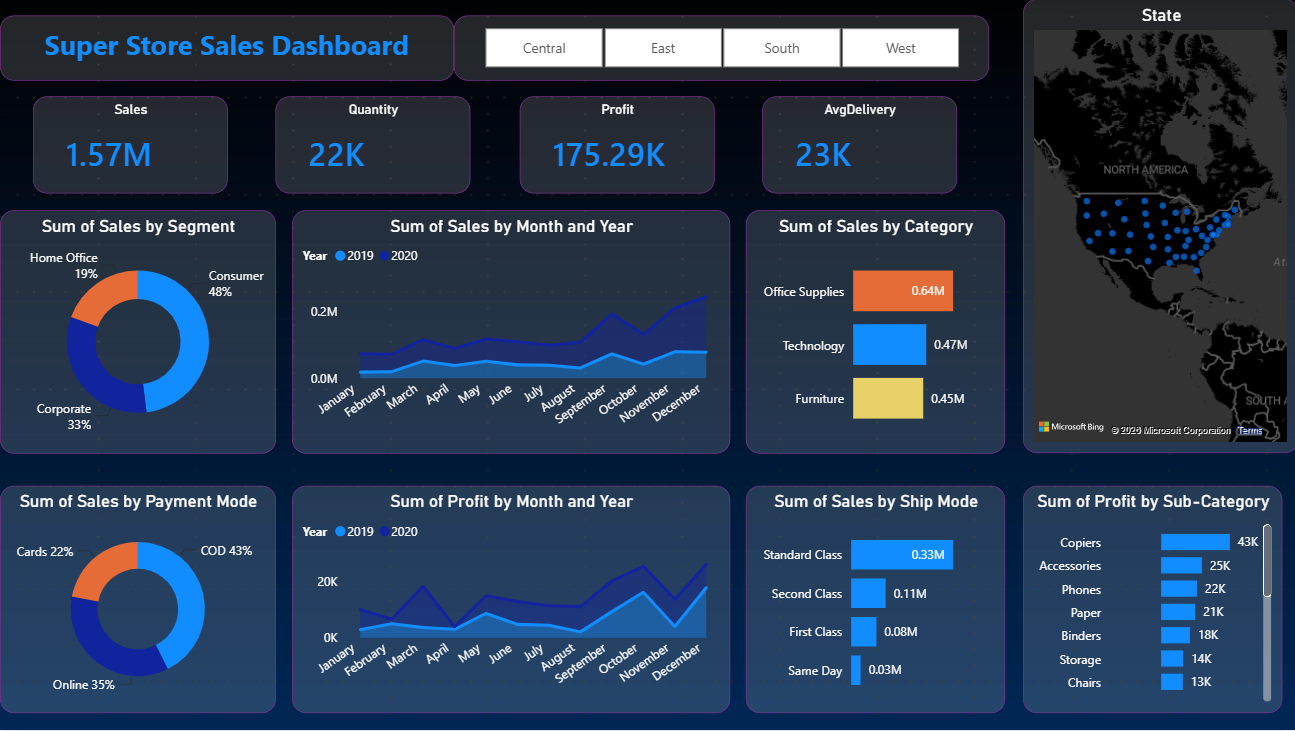

Layout of this report page (visuals, bound fields, positions):
{"tool":"powerbi","page":{"name":"Page 1","canvas":[1280,720],"ordinal":0},"visuals":[{"type":"clusteredBarChart","fields":{"Category":["SuperStore_Sales_Dataset.Category"],"Y":["Sum(SuperStore_Sales_Dataset.Sales)"]},"box":[736,208,256,240],"z":0},{"type":"clusteredBarChart","fields":{"Category":["SuperStore_Sales_Dataset.Sub-Category"],"Y":["Sum(SuperStore_Sales_Dataset.Profit)"]},"box":[1008,480,256,224],"z":1000},{"type":"clusteredBarChart","fields":{"Category":["SuperStore_Sales_Dataset.Ship Mode"],"Y":["Sum(SuperStore_Sales_Dataset.Sales)"]},"box":[736,480,256,224],"z":2000},{"type":"stackedAreaChart","fields":{"Y":["Sum(SuperStore_Sales_Dataset.Sales)"],"Category":["SuperStore_Sales_Dataset.Order Date.Variation.Date Hierarchy.Month","SuperStore_Sales_Dataset.Order Date.Variation.Date Hierarchy.Day"],"Series":["SuperStore_Sales_Dataset.Order Date.Variation.Date Hierarchy.Year"]},"box":[288,208,432,240],"z":3000},{"type":"stackedAreaChart","fields":{"Category":["SuperStore_Sales_Dataset.Order Date.Variation.Date Hierarchy.Month","SuperStore_Sales_Dataset.Order Date.Variation.Date Hierarchy.Day"],"Series":["SuperStore_Sales_Dataset.Order Date.Variation.Date Hierarchy.Year"],"Y":["Sum(SuperStore_Sales_Dataset.Profit)"]},"box":[288,480,432,224],"z":4000},{"type":"map","fields":{"Category":["SuperStore_Sales_Dataset.State"]},"box":[1008,0,272,448],"z":5000},{"type":"donutChart","fields":{"Category":["SuperStore_Sales_Dataset.Segment"],"Y":["Sum(SuperStore_Sales_Dataset.Sales)"]},"box":[0,208,272,240],"z":6000},{"type":"donutChart","fields":{"Category":["SuperStore_Sales_Dataset.Payment Mode"],"Y":["Sum(SuperStore_Sales_Dataset.Sales)"]},"box":[0,480,272,224],"z":7000},{"type":"slicer","fields":{"Values":["SuperStore_Sales_Dataset.Region"]},"box":[448,16,528,64],"z":8000},{"type":"textbox","box":[0,16,448,64],"z":9000},{"type":"cardVisual","title":"Sales","fields":{"Data":["Sum(SuperStore_Sales_Dataset.Sales)"]},"box":[32,96,192,96],"z":10000},{"type":"cardVisual","title":"Quantity","fields":{"Data":["Sum(SuperStore_Sales_Dataset.Quantity)"]},"box":[272,96,192,96],"z":11000},{"type":"cardVisual","title":"Profit","fields":{"Data":["Sum(SuperStore_Sales_Dataset.Profit)"]},"box":[512,96,192,96],"z":12000},{"type":"cardVisual","title":"AvgDelivery","fields":{"Data":["Sum(SuperStore_Sales_Dataset.AverageDelivery)"]},"box":[752,96,192,96],"z":13000}]}

Visuals, with their boxes in screenshot pixels (x1, y1, x2, y2), scaled from the page's 1280x720 canvas onto the 1295x731 screenshot:
clusteredBarChart - SuperStore_Sales_Dataset.Category x Sum(SuperStore_Sales_Dataset.Sales): [745, 211, 1004, 455]
clusteredBarChart - SuperStore_Sales_Dataset.Sub-Category x Sum(SuperStore_Sales_Dataset.Profit): [1020, 487, 1279, 715]
clusteredBarChart - SuperStore_Sales_Dataset.Ship Mode x Sum(SuperStore_Sales_Dataset.Sales): [745, 487, 1004, 715]
stackedAreaChart - Sum(SuperStore_Sales_Dataset.Sales) x SuperStore_Sales_Dataset.Order Date.Variation.Date Hierarchy.Month: [291, 211, 728, 455]
stackedAreaChart - SuperStore_Sales_Dataset.Order Date.Variation.Date Hierarchy.Month x SuperStore_Sales_Dataset.Order Date.Variation.Date Hierarchy.Day: [291, 487, 728, 715]
map - SuperStore_Sales_Dataset.State: [1020, 0, 1294, 455]
donutChart - SuperStore_Sales_Dataset.Segment x Sum(SuperStore_Sales_Dataset.Sales): [0, 211, 275, 455]
donutChart - SuperStore_Sales_Dataset.Payment Mode x Sum(SuperStore_Sales_Dataset.Sales): [0, 487, 275, 715]
slicer - SuperStore_Sales_Dataset.Region: [453, 16, 987, 81]
textbox: [0, 16, 453, 81]
"Sales" cardVisual: [32, 97, 227, 195]
"Quantity" cardVisual: [275, 97, 469, 195]
"Profit" cardVisual: [518, 97, 712, 195]
"AvgDelivery" cardVisual: [761, 97, 955, 195]
